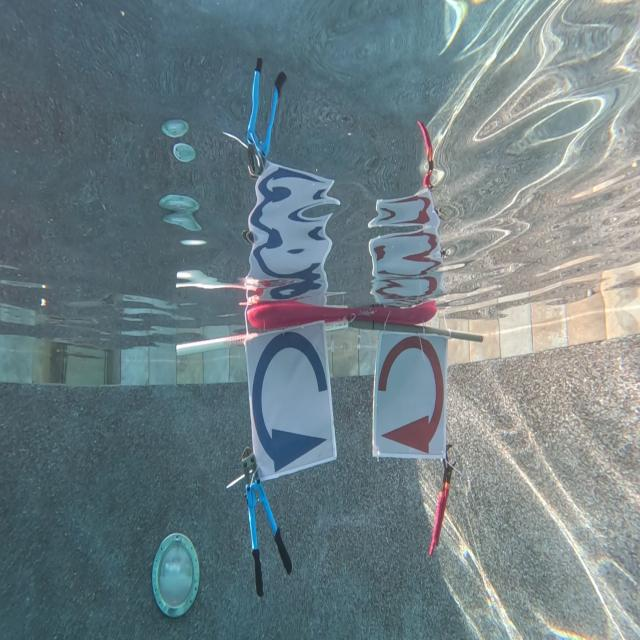blue_side: (248, 329, 336, 481)
red_side: (373, 330, 445, 454)
